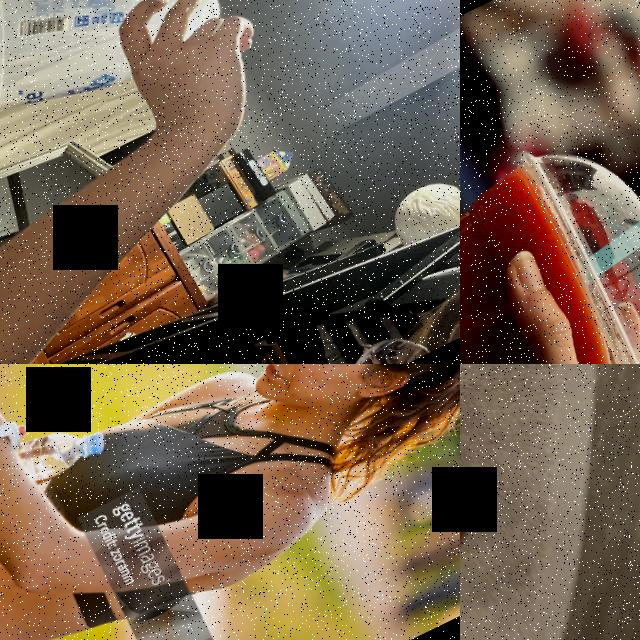bottle: (0, 389, 107, 544)
cup: (460, 112, 640, 364), (0, 0, 236, 160)
